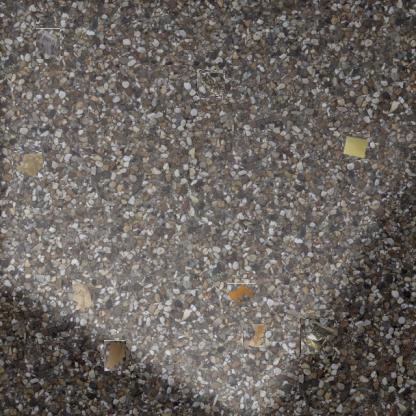dirty: (300, 318, 334, 354), (342, 133, 370, 160), (35, 30, 62, 58), (102, 342, 129, 369), (198, 71, 224, 97), (70, 280, 92, 310), (230, 281, 253, 305)
liquid: (13, 151, 44, 177), (242, 323, 266, 347)
